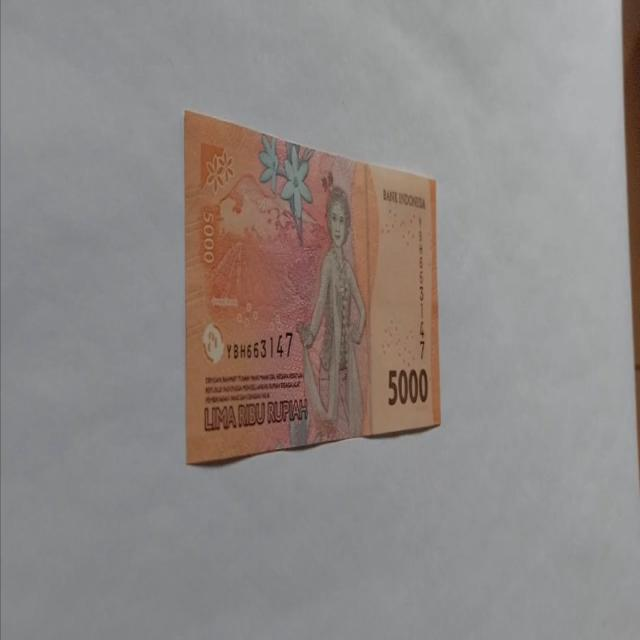lima ribu rupiah: (182, 108, 442, 466), (296, 184, 368, 444)
